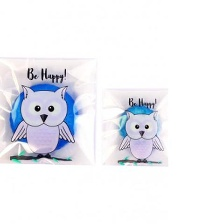snack: (0, 49, 100, 171), (100, 82, 173, 171)
